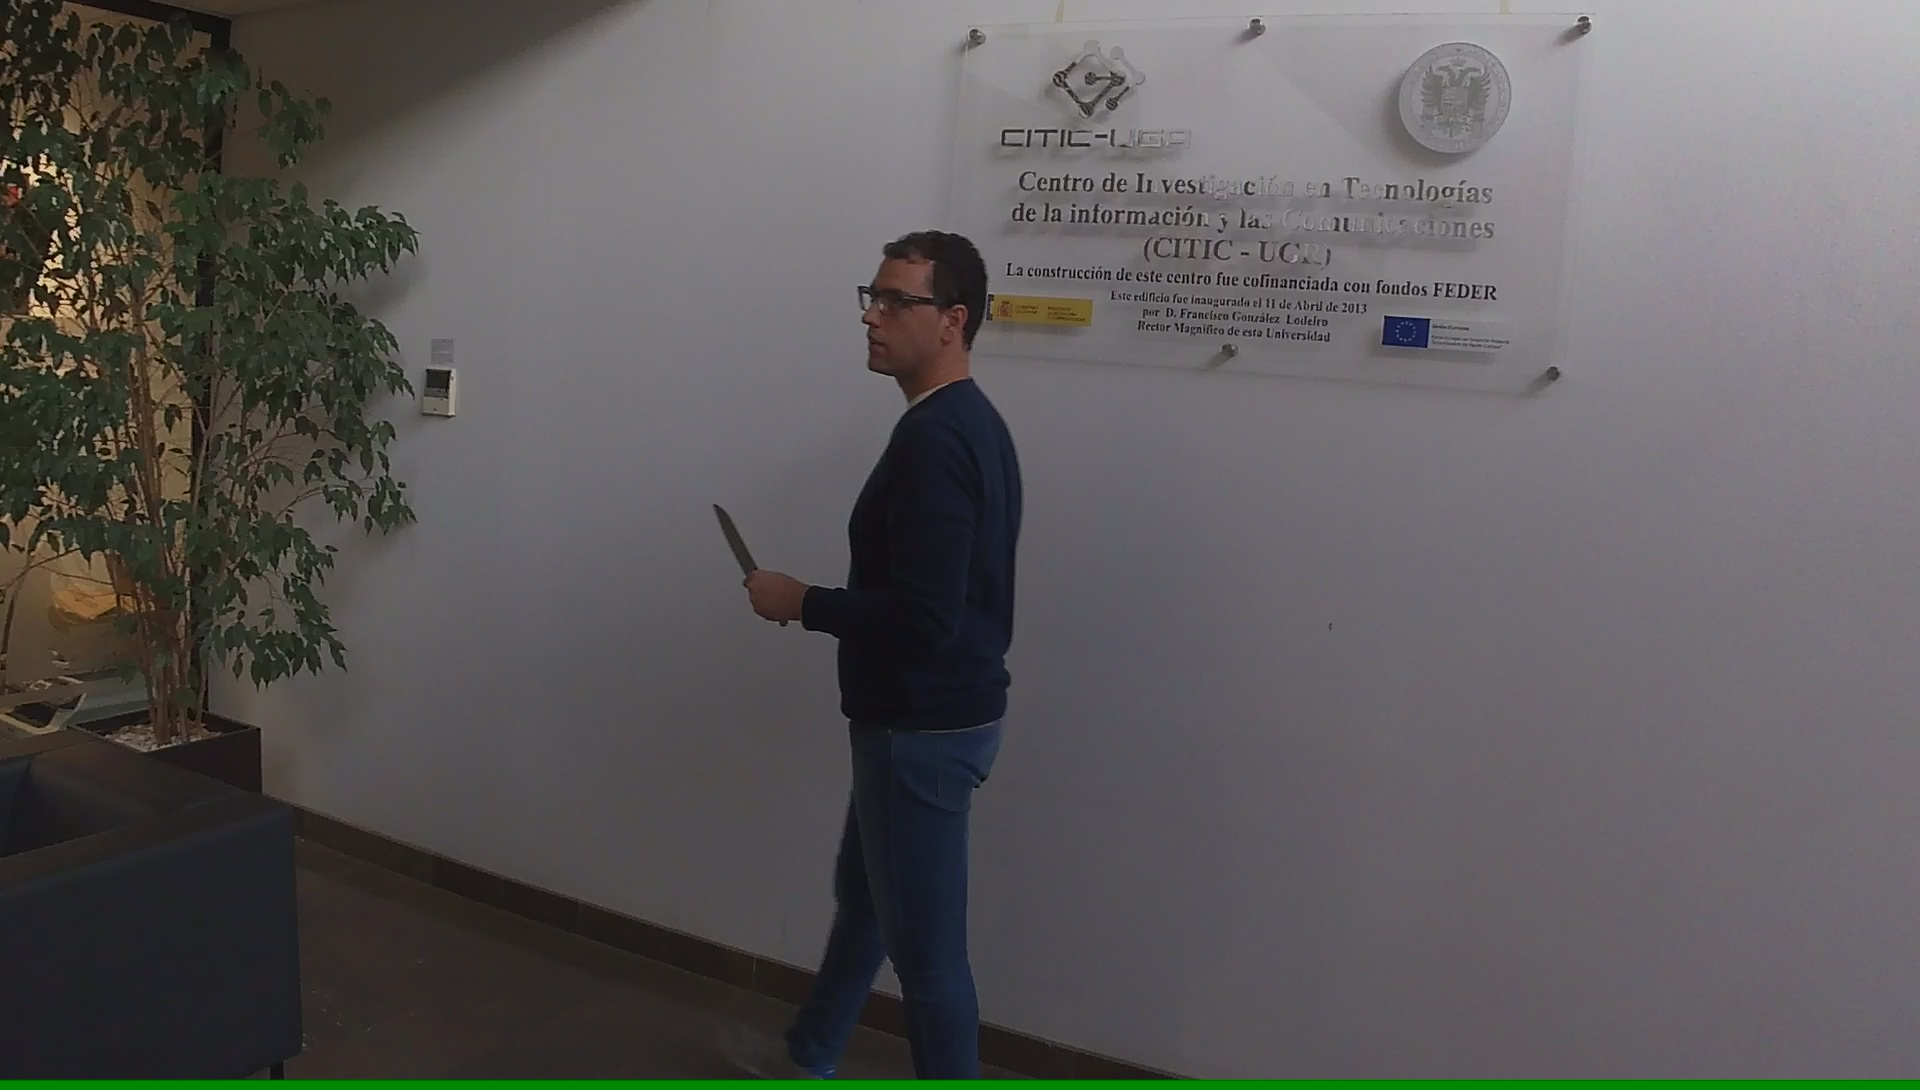knife: (708, 496, 793, 629)
